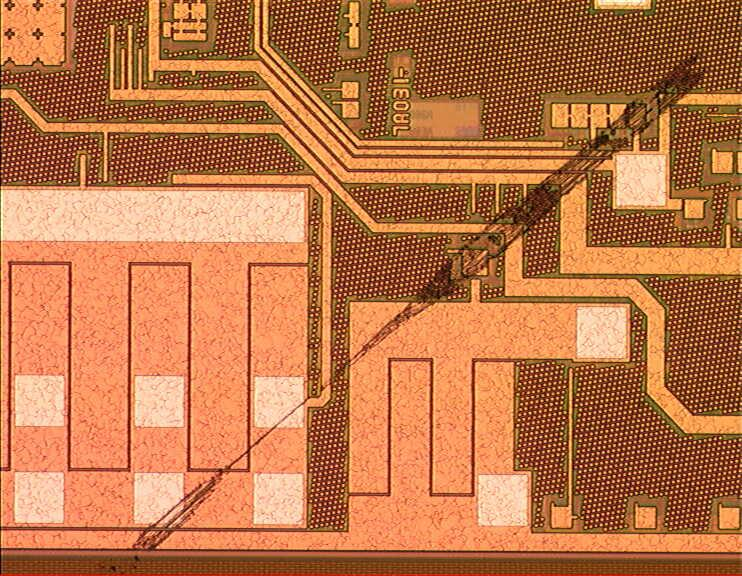SCRATCH: (99, 54, 715, 575)
